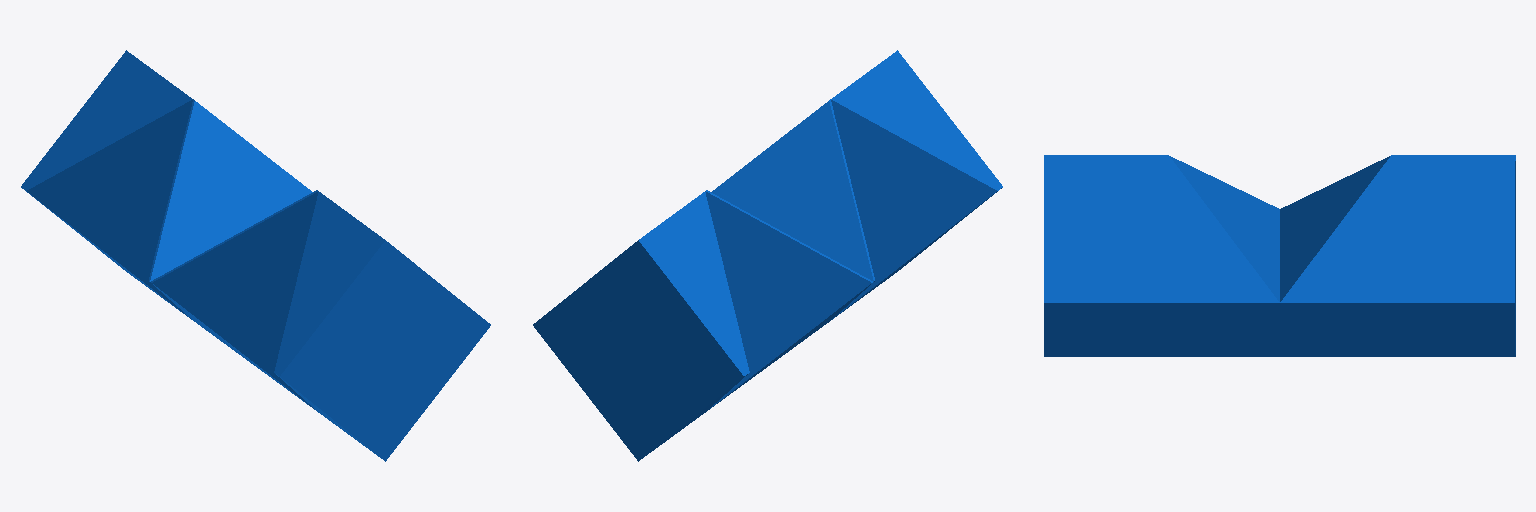
robot.urdf — obj_2:
<robot name="obj_2" version="1.0">
  <link name="link_2">
    <collision name="2-collision.001">
      <origin rpy="0.78540 0.00000 -1.57097" xyz="-0.26006 0.59824 0.22399"/>
      <geometry>
        <mesh filename="../meshes/obj/2-collision.001.obj" scale="0.00500 0.00500 0.00500"/>
      </geometry>
    </collision>
    <collision name="2-collision.002">
      <origin rpy="0.78540 0.00000 -1.57097" xyz="-0.31308 0.56674 0.27704"/>
      <geometry>
        <mesh filename="../meshes/obj/2-collision.002.obj" scale="0.00500 0.00500 0.00500"/>
      </geometry>
    </collision>
    <collision name="2-collision.003">
      <origin rpy="0.78540 0.00000 -1.57097" xyz="-0.31308 0.56674 0.17094"/>
      <geometry>
        <mesh filename="../meshes/obj/2-collision.003.obj" scale="0.00500 0.00500 0.00500"/>
      </geometry>
    </collision>
    <collision name="2-collision.004">
      <origin rpy="0.78540 0.00000 -1.57097" xyz="-0.29536 0.51752 0.22401"/>
      <geometry>
        <mesh filename="../meshes/obj/2-collision.004.obj" scale="0.00500 0.00500 0.00500"/>
      </geometry>
    </collision>
    <collision name="2-collision.005">
      <origin rpy="0.78540 0.00000 -1.57097" xyz="-0.29537 0.44680 0.22401"/>
      <geometry>
        <mesh filename="../meshes/obj/2-collision.005.obj" scale="0.00500 0.00500 0.00500"/>
      </geometry>
    </collision>
    <collision name="2-collision.006">
      <origin rpy="0.78540 0.00000 -1.57097" xyz="-0.30250 0.43859 0.28761"/>
      <geometry>
        <mesh filename="../meshes/obj/2-collision.006.obj" scale="0.00500 0.00500 0.00500"/>
      </geometry>
    </collision>
    <collision name="2-collision.007">
      <origin rpy="0.78540 0.00000 -1.57097" xyz="-0.26007 0.40860 0.25927"/>
      <geometry>
        <mesh filename="../meshes/obj/2-collision.007.obj" scale="0.00500 0.00500 0.00500"/>
      </geometry>
    </collision>
    <collision name="2-collision.008">
      <origin rpy="0.78540 0.00000 -1.57097" xyz="-0.26008 0.33788 0.25927"/>
      <geometry>
        <mesh filename="../meshes/obj/2-collision.008.obj" scale="0.00500 0.00500 0.00500"/>
      </geometry>
    </collision>
    <collision name="2-collision.009">
      <origin rpy="0.78540 0.00000 -1.57097" xyz="-0.31314 0.31878 0.27702"/>
      <geometry>
        <mesh filename="../meshes/obj/2-collision.009.obj" scale="0.00500 0.00500 0.00500"/>
      </geometry>
    </collision>
    <collision name="2-collision.010">
      <origin rpy="0.78540 0.00000 -1.57097" xyz="-0.28659 0.45491 0.30352"/>
      <geometry>
        <mesh filename="../meshes/obj/2-collision.010.obj" scale="0.00500 0.00500 0.00500"/>
      </geometry>
    </collision>
    <collision name="2-collision.011">
      <origin rpy="0.78540 0.00000 -1.57097" xyz="-0.29540 0.29967 0.22401"/>
      <geometry>
        <mesh filename="../meshes/obj/2-collision.011.obj" scale="0.00500 0.00500 0.00500"/>
      </geometry>
    </collision>
    <collision name="2-collision.012">
      <origin rpy="0.78540 0.00000 -1.57097" xyz="-0.29541 0.22895 0.22401"/>
      <geometry>
        <mesh filename="../meshes/obj/2-collision.012.obj" scale="0.00500 0.00500 0.00500"/>
      </geometry>
    </collision>
    <collision name="2-collision.013">
      <origin rpy="0.78540 0.00000 -1.57097" xyz="-0.31315 0.17974 0.27704"/>
      <geometry>
        <mesh filename="../meshes/obj/2-collision.013.obj" scale="0.00500 0.00500 0.00500"/>
      </geometry>
    </collision>
    <collision name="2-collision.014">
      <origin rpy="0.78540 0.00000 -1.57097" xyz="-0.26014 0.14824 0.22399"/>
      <geometry>
        <mesh filename="../meshes/obj/2-collision.014.obj" scale="0.00500 0.00500 0.00500"/>
      </geometry>
    </collision>
    <collision name="2-collision.015">
      <origin rpy="0.78540 0.00000 -1.57097" xyz="-0.21768 0.23963 0.28762"/>
      <geometry>
        <mesh filename="../meshes/obj/2-collision.015.obj" scale="0.00500 0.00500 0.00500"/>
      </geometry>
    </collision>
    <collision name="2-collision.016">
      <origin rpy="0.78540 0.00000 -1.57097" xyz="-0.21764 0.50682 0.28761"/>
      <geometry>
        <mesh filename="../meshes/obj/2-collision.016.obj" scale="0.00500 0.00500 0.00500"/>
      </geometry>
    </collision>
    <collision name="2-collision.017">
      <origin rpy="0.78540 0.00000 -1.57097" xyz="-0.32370 0.37324 0.18152"/>
      <geometry>
        <mesh filename="../meshes/obj/2-collision.017.obj" scale="0.00500 0.00500 0.00500"/>
      </geometry>
    </collision>
    <collision name="2-collision.018">
      <origin rpy="0.78540 0.00000 -1.57097" xyz="-0.31308 0.56674 0.17094"/>
      <geometry>
        <mesh filename="../meshes/obj/2-collision.018.obj" scale="0.00500 0.00500 0.00500"/>
      </geometry>
    </collision>
    <collision name="2-collision.019">
      <origin rpy="0.78540 0.00000 -1.57097" xyz="-0.31315 0.17974 0.17094"/>
      <geometry>
        <mesh filename="../meshes/obj/2-collision.019.obj" scale="0.00500 0.00500 0.00500"/>
      </geometry>
    </collision>
    <collision name="2-collision.020">
      <origin rpy="0.78540 0.00000 -1.57097" xyz="-0.21930 0.37322 0.15872"/>
      <geometry>
        <mesh filename="../meshes/obj/2-collision.020.obj" scale="0.00500 0.00500 0.00500"/>
      </geometry>
    </collision>
    <inertial>
      <inertia ixx="0.00012" ixy="-0.00008" ixz="-0.00000" iyy="0.00012" iyz="0.00000" izz="0.00020"/>
      <origin rpy="0.00000 0.00000 0.00000" xyz="-0.24917 0.37324 0.21853"/>
      <mass value="0.01000"/>
    </inertial>
    <visual name="2">
      <material name="turnarrow_skyblue"/>
      <origin rpy="0.78540 0.00000 -1.57097" xyz="-0.28901 0.37324 0.23844"/>
      <geometry>
        <mesh filename="../meshes/obj/6 part puzzle cube.001.obj" scale="0.00500 0.00500 0.00500"/>
      </geometry>
    </visual>
  </link>
  <material name="turnarrow_skyblue">
    <color rgba="0.09020 0.45490 0.81176 1.00000"/>
  </material>
</robot>

--- Facts derived from the render (not from the file) ---
3 views of the same robot in one strip: view 1: azimuth 30°, elevation 25°; view 2: azimuth 150°, elevation 25°; view 3: azimuth 270°, elevation 25° (orthographic).
Model obj_2 with 1 links and 0 joints (none), rooted at link_2, posed every joint at zero.
Links seen in each view (by area): view 1: link_2; view 2: link_2; view 3: link_2.
Boxes of the visible links, left/top/right/bottom form: link_2: left=21, top=50, right=490, bottom=461; link_2: left=533, top=50, right=1002, bottom=461; link_2: left=1044, top=155, right=1515, bottom=356.
Size in the robot's own frame: 0.2122 by 0.45 by 0.2121 metres.
Meshes: 1 distinct files referenced, 1 mesh visuals loaded (1 OBJ).